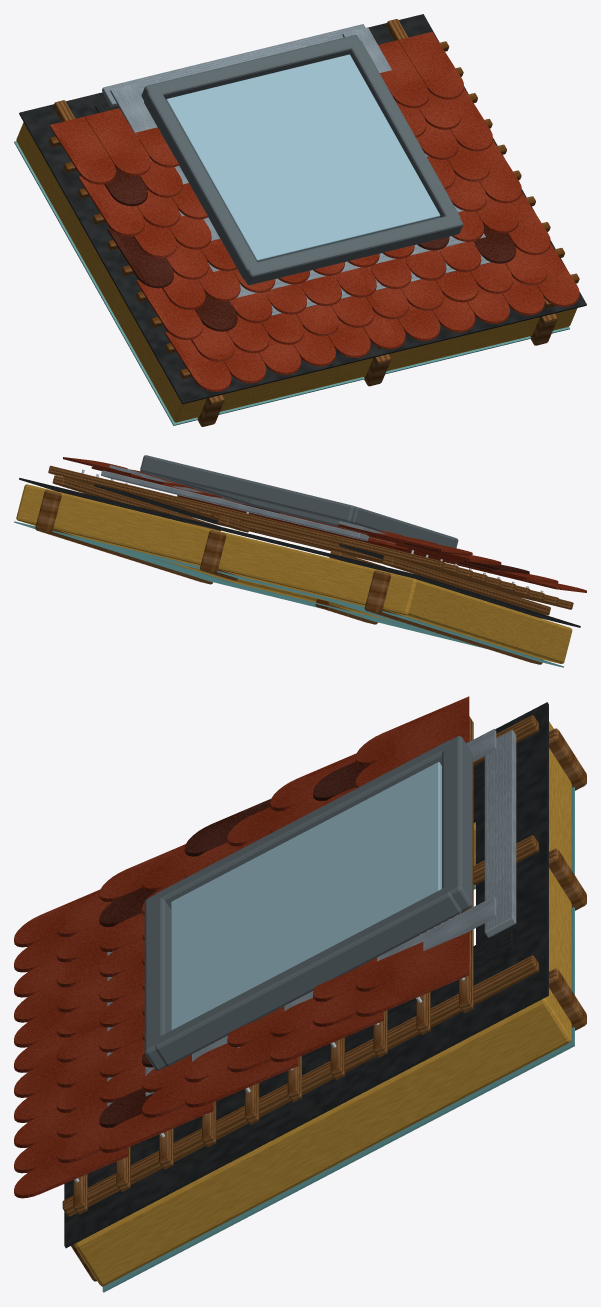
File: modell.glb
3 views of the same model, one above another, from view 1: azimuth 30°, elevation 25°; view 2: azimuth 150°, elevation 25°; view 3: azimuth 270°, elevation 25° (orthographic). The views are drawn at different scales.
Visible parts, largest first — view 1: s09-deckziegel_deckung, s09-fenster_, s09-rahmen_, s09-zusatzebene_zusatzebene, s09-daemmung_daemmung, s09-deckziegel_deckung.001, s09-anschluss_deckung, s09-zusatzebene_zusatzebene.001, s09-lattung_lattung, s09-luftdichtheit_luftdichtheit, s09-sparren_tragwerk; view 2: s09-daemmung_daemmung, s09-lattung_lattung, s09-rahmen_, s09-sparren_tragwerk, s09-deckziegel_deckung, s09-luftdichtheit_luftdichtheit, s09-zusatzebene_zusatzebene, s09-zusatzebene_zusatzebene.001, s09-zusatzebene_zusatzebene.002, s09-deckziegel_deckung.001, s09-anschluss_deckung; view 3: s09-deckziegel_deckung, s09-fenster_, s09-daemmung_daemmung, s09-zusatzebene_zusatzebene, s09-rahmen_, s09-lattung_lattung, s09-zusatzebene_zusatzebene.001, s09-deckziegel_deckung.001, s09-luftdichtheit_luftdichtheit, s09-sparren_tragwerk, s09-anschluss_deckung, s09-zusatzebene_zusatzebene.002.
Part boxes in pixels (left/top/right/bottom): s09-deckziegel_deckung: left=50, top=32, right=579, bottom=391; s09-fenster_: left=166, top=54, right=440, bottom=261; s09-rahmen_: left=141, top=35, right=462, bottom=285; s09-zusatzebene_zusatzebene: left=19, top=14, right=586, bottom=404; s09-daemmung_daemmung: left=16, top=122, right=577, bottom=422; s09-deckziegel_deckung.001: left=104, top=167, right=515, bottom=331; s09-anschluss_deckung: left=110, top=27, right=490, bottom=315; s09-zusatzebene_zusatzebene.001: left=102, top=24, right=365, bottom=107; s09-lattung_lattung: left=48, top=19, right=579, bottom=379; s09-luftdichtheit_luftdichtheit: left=14, top=141, right=569, bottom=425; s09-sparren_tragwerk: left=197, top=313, right=557, bottom=426; s09-daemmung_daemmung: left=16, top=484, right=572, bottom=663; s09-lattung_lattung: left=48, top=465, right=573, bottom=615; s09-rahmen_: left=140, top=455, right=458, bottom=547; s09-sparren_tragwerk: left=35, top=490, right=542, bottom=664; s09-deckziegel_deckung: left=63, top=457, right=586, bottom=592; s09-luftdichtheit_luftdichtheit: left=14, top=521, right=563, bottom=667; s09-zusatzebene_zusatzebene: left=19, top=477, right=580, bottom=627; s09-zusatzebene_zusatzebene.001: left=101, top=470, right=368, bottom=541; s09-zusatzebene_zusatzebene.002: left=94, top=484, right=383, bottom=559; s09-deckziegel_deckung.001: left=241, top=504, right=529, bottom=573; s09-anschluss_deckung: left=109, top=465, right=395, bottom=543; s09-deckziegel_deckung: left=14, top=696, right=469, bottom=1198; s09-fenster_: left=171, top=762, right=441, bottom=1030; s09-daemmung_daemmung: left=75, top=721, right=571, bottom=1286; s09-zusatzebene_zusatzebene: left=64, top=702, right=548, bottom=1248; s09-rahmen_: left=144, top=736, right=472, bottom=1070; s09-lattung_lattung: left=62, top=715, right=538, bottom=1216; s09-zusatzebene_zusatzebene.001: left=484, top=730, right=516, bottom=937; s09-deckziegel_deckung.001: left=99, top=761, right=368, bottom=1127; s09-luftdichtheit_luftdichtheit: left=102, top=787, right=574, bottom=1292; s09-sparren_tragwerk: left=71, top=728, right=586, bottom=1281; s09-anschluss_deckung: left=107, top=728, right=496, bottom=1106; s09-zusatzebene_zusatzebene.002: left=155, top=762, right=512, bottom=1136.
Bounding box in the file's own units: 2.09 × 1.16 × 1.74.
Materials: 10 (6 with a texture image).
